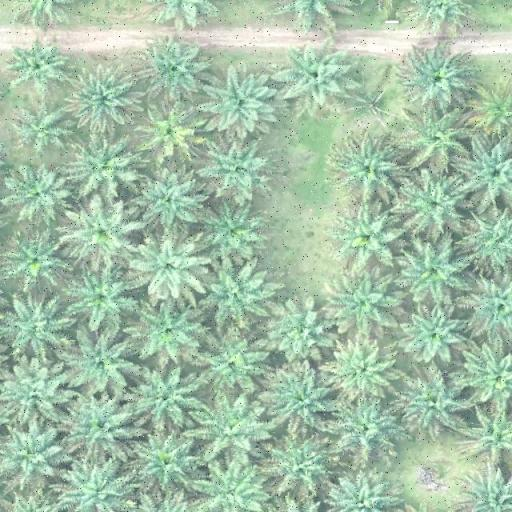Ganoderma: (146, 112, 194, 153)
